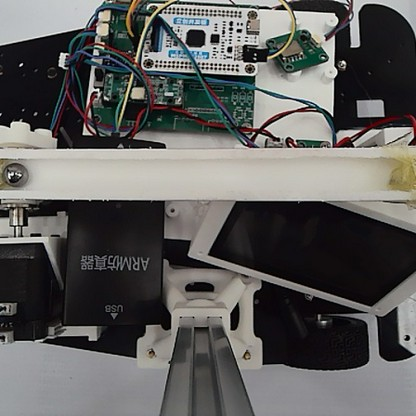ironball: (0, 157, 30, 189)
